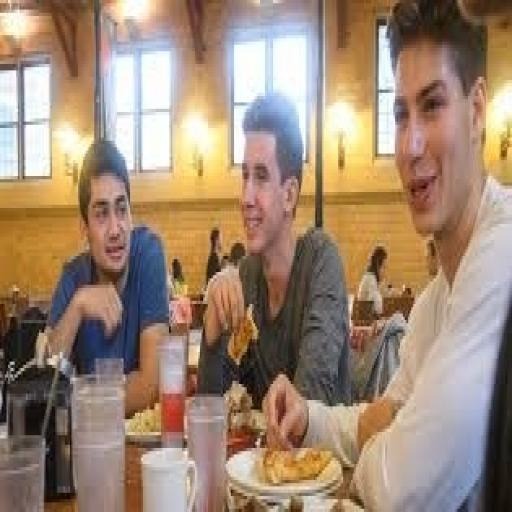eating: (260, 0, 510, 509), (34, 134, 172, 413)
